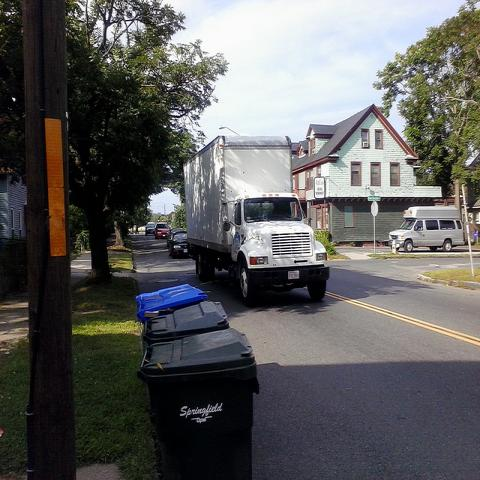car: (388, 205, 467, 253), (168, 229, 190, 258), (168, 226, 186, 244), (154, 223, 170, 238), (146, 222, 155, 232)
truck: (183, 133, 330, 304)
